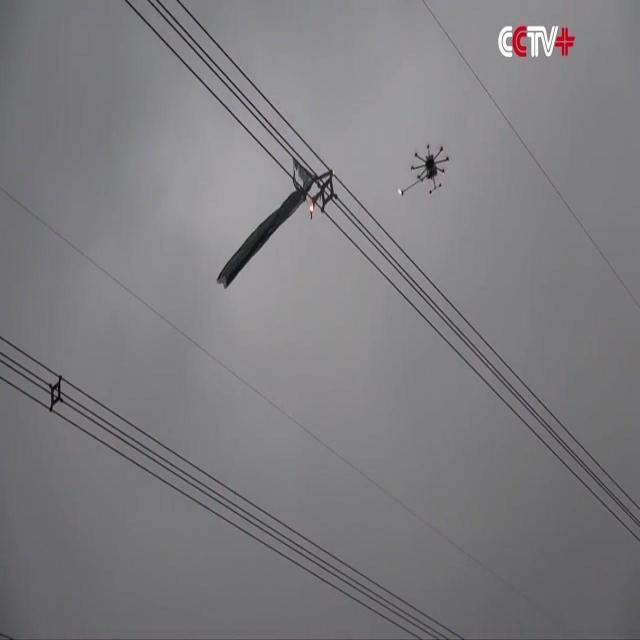UAV: (398, 143, 450, 197)
